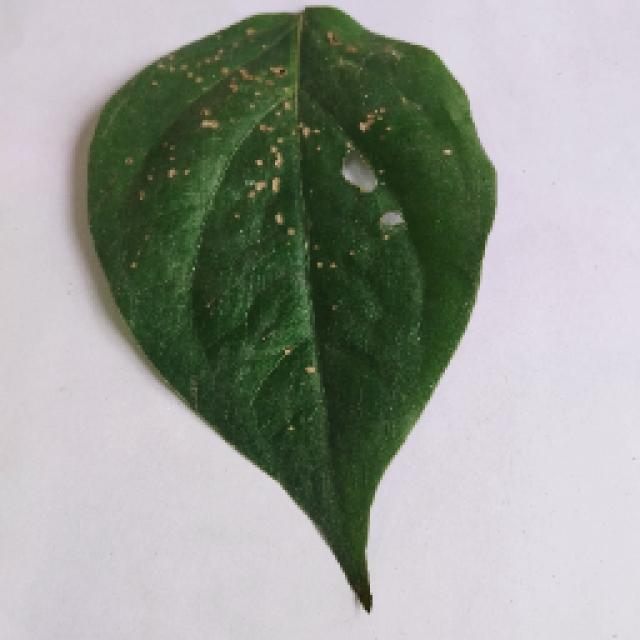pollu-disease: (85, 8, 493, 610)
